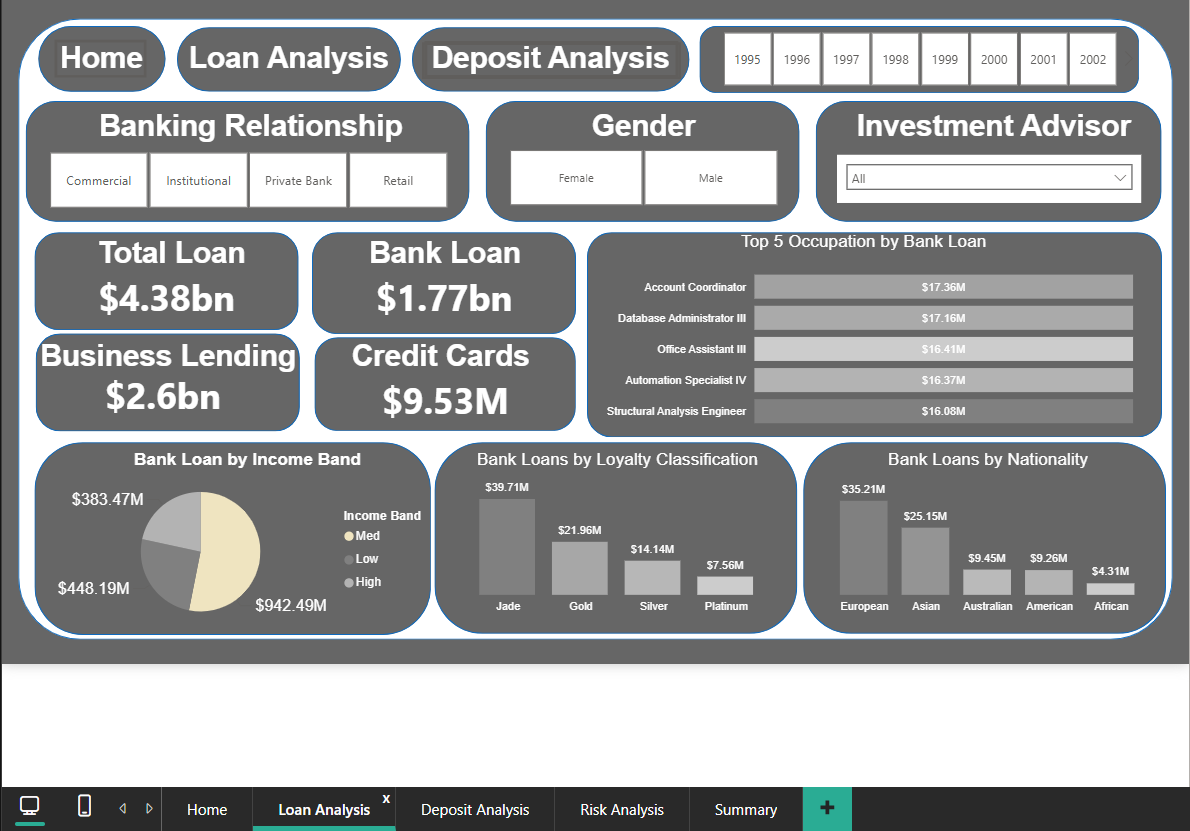

What the dashboard file says about the page in this screenshot:
{"tool":"powerbi","page":{"name":"Loan Analysis","canvas":[1280,720],"ordinal":1},"visuals":[{"type":"shape","box":[17.8,24.7,1244.6,669.6],"z":0},{"type":"shape","box":[189.3,33.2,241.3,69.4],"z":1000},{"type":"textbox","box":[189.3,44.8,241.3,65],"z":2000},{"type":"shape","box":[442.2,33.2,299.1,69.4],"z":3000},{"type":"textbox","box":[442.2,44.8,299.1,72.3],"z":4000},{"type":"shape","box":[39,31.8,137.3,70.8],"z":5000},{"type":"textbox","box":[46.2,44.8,122.8,78],"z":6000},{"type":"shape","box":[751.4,31.8,474,72.3],"z":7000},{"type":"shape","box":[521.7,112.7,338.1,130.1],"z":8000},{"type":"shape","box":[34.7,254.3,284.7,105.5],"z":9000},{"type":"shape","box":[333.8,254.3,284.7,109.8],"z":10000},{"type":"shape","box":[336.7,368.5,281.8,101.2],"z":11000},{"type":"shape","box":[35.2,481,427.6,207.7],"z":12000},{"type":"shape","box":[36.1,364.1,284.7,105.5],"z":13000},{"type":"slicer","fields":{"Values":["Sheet1.Joined Bank.Variation.Date Hierarchy.Year"]},"box":[751.4,31.8,474,70.8],"z":14000},{"type":"slicer","fields":{"Values":["Sheet1.Sex"]},"box":[521.7,159,338.1,73.7],"z":15000},{"type":"textbox","box":[630,117,135.8,62.1],"z":16000},{"type":"textbox","box":[98.3,254.3,182.1,63.6],"z":17000},{"type":"textbox","box":[390.2,254.3,226.9,65],"z":18000},{"type":"textbox","box":[371.4,365.6,300.6,70.8],"z":19000},{"type":"card","fields":{"Values":["Measure.Total Loan"]},"box":[21.7,284.7,312.1,79.5],"z":20000},{"type":"textbox","box":[36.1,365.6,300.6,57.8],"z":21000},{"type":"card","fields":{"Values":["Measure.Total Deposit"]},"box":[637.3,449.4,312.1,79.5],"z":22000},{"type":"card","fields":{"Values":["Measure.Credit Cards Balance"]},"box":[322.2,395.9,312.1,79.5],"z":23000},{"type":"card","fields":{"Values":["Measure.Business Lending"]},"box":[17.3,390.2,312.1,79.5],"z":24000},{"type":"shape","box":[26,112.7,478.3,130.1],"z":25000},{"type":"slicer","fields":{"Values":["Sheet1.Banking Relationship"]},"box":[26,161.8,478.3,73.7],"z":26000},{"type":"textbox","box":[99.7,117,404.6,78],"z":27000},{"type":"shape","box":[877.1,112.7,372.8,130.1],"z":28000},{"type":"textbox","box":[916.1,117,325.1,59.2],"z":29000},{"type":"slicer","fields":{"Values":["investment-advisiors.Investment Advisor"]},"box":[900.3,170.5,328,52],"z":30000},{"type":"card","fields":{"Values":["Measure.Bank Loan"]},"box":[320.8,284.7,312.1,79.5],"z":31000},{"type":"pieChart","fields":{"Category":["Sheet1.Income Band"],"Y":["Measure.Bank Loan"]},"box":[25.5,493.2,419.1,181],"z":32000},{"type":"shape","box":[630,254.3,619.9,221.1],"z":33000},{"type":"hundredPercentStackedBarChart","title":"Top 5 Occupation by Bank Loan","fields":{"Category":["Sheet1.Occupation"],"Y":["Sum(Sheet1.Bank Loans)"]},"box":[633.8,253.8,591.2,226.9],"z":34000},{"type":"shape","box":[863.6,481,391.1,206.5],"z":35000},{"type":"shape","box":[466.4,481,391.1,206.5],"z":36000},{"type":"clusteredColumnChart","title":" Bank Loans by Nationality","fields":{"Y":["Sum(Sheet1.Bank Loans)"],"Category":["Sheet1.Nationality"]},"box":[872.1,489.5,382.6,184.6],"z":37000},{"type":"clusteredColumnChart","title":"Bank Loans by Loyalty Classification","fields":{"Y":["Sum(Sheet1.Bank Loans)"],"Category":["Sheet1.Loyalty Classification"]},"box":[478.6,489.5,370.5,184.6],"z":38000},{"type":"actionButton","box":[56.7,46.8,99.2,41.1],"z":39000},{"type":"actionButton","box":[455.1,48.2,273.6,39.7],"z":40000},{"type":"actionButton","box":[452.3,49.6,279.3,39.7],"z":41000}]}

Visuals, with their boxes on the page's 1280x720 design canvas (x1, y1, x2, y2). These are canvas units, not pixel positions in the 1190x831 screenshot, which may show the page scaled, cropped or inside an application window:
shape: bbox(18, 25, 1262, 694)
shape: bbox(189, 33, 431, 103)
textbox: bbox(189, 45, 431, 110)
shape: bbox(442, 33, 741, 103)
textbox: bbox(442, 45, 741, 117)
shape: bbox(39, 32, 176, 103)
textbox: bbox(46, 45, 169, 123)
shape: bbox(751, 32, 1225, 104)
shape: bbox(522, 113, 860, 243)
shape: bbox(35, 254, 319, 360)
shape: bbox(334, 254, 618, 364)
shape: bbox(337, 368, 618, 470)
shape: bbox(35, 481, 463, 689)
shape: bbox(36, 364, 321, 470)
slicer - Sheet1.Joined Bank.Variation.Date Hierarchy.Year: bbox(751, 32, 1225, 103)
slicer - Sheet1.Sex: bbox(522, 159, 860, 233)
textbox: bbox(630, 117, 766, 179)
textbox: bbox(98, 254, 280, 318)
textbox: bbox(390, 254, 617, 319)
textbox: bbox(371, 366, 672, 436)
card - Measure.Total Loan: bbox(22, 285, 334, 364)
textbox: bbox(36, 366, 337, 423)
card - Measure.Total Deposit: bbox(637, 449, 949, 529)
card - Measure.Credit Cards Balance: bbox(322, 396, 634, 475)
card - Measure.Business Lending: bbox(17, 390, 329, 470)
shape: bbox(26, 113, 504, 243)
slicer - Sheet1.Banking Relationship: bbox(26, 162, 504, 236)
textbox: bbox(100, 117, 504, 195)
shape: bbox(877, 113, 1250, 243)
textbox: bbox(916, 117, 1241, 176)
slicer - investment-advisiors.Investment Advisor: bbox(900, 170, 1228, 222)
card - Measure.Bank Loan: bbox(321, 285, 633, 364)
pieChart - Sheet1.Income Band x Measure.Bank Loan: bbox(26, 493, 445, 674)
shape: bbox(630, 254, 1250, 475)
"Top 5 Occupation by Bank Loan" hundredPercentStackedBarChart: bbox(634, 254, 1225, 481)
shape: bbox(864, 481, 1255, 688)
shape: bbox(466, 481, 858, 688)
" Bank Loans by Nationality" clusteredColumnChart: bbox(872, 490, 1255, 674)
"Bank Loans by Loyalty Classification" clusteredColumnChart: bbox(479, 490, 849, 674)
actionButton: bbox(57, 47, 156, 88)
actionButton: bbox(455, 48, 729, 88)
actionButton: bbox(452, 50, 732, 89)
